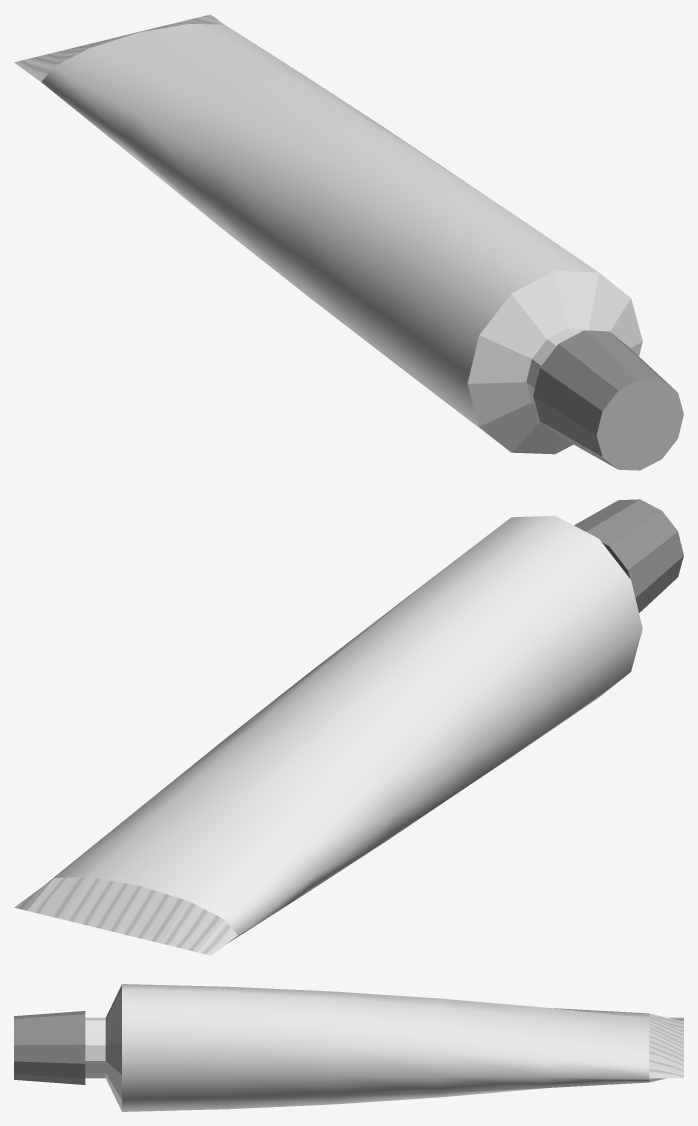
Rendered from tube_inven.FBX.
The picture shows the model from 3 angles, top to bottom: view 1: azimuth 30°, elevation 25°; view 2: azimuth 150°, elevation 25°; view 3: azimuth 270°, elevation 25°; orthographic projection. The views are drawn at different scales.
Parts seen in each view (by area): view 1: tube, tube_cap; view 2: tube, tube_cap; view 3: tube, tube_cap.
Boxes of the visible parts, x1,y1,x2,y2 form: tube: (14, 14, 642, 454); tube_cap: (533, 330, 683, 470); tube: (14, 515, 642, 955); tube_cap: (574, 499, 683, 612); tube: (85, 984, 683, 1111); tube_cap: (14, 1011, 85, 1084).
Bounding box in the file's own units: 6.73 × 6 × 31.3.
